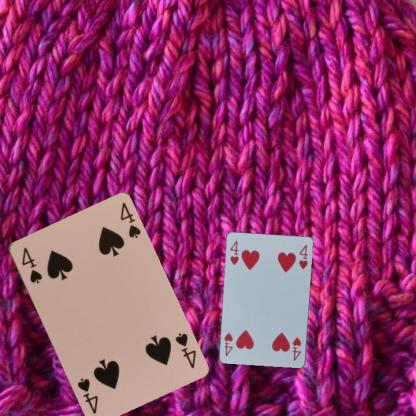4h: (290, 335, 303, 362), (228, 238, 240, 266)
4s: (18, 244, 44, 285), (172, 330, 197, 370)
